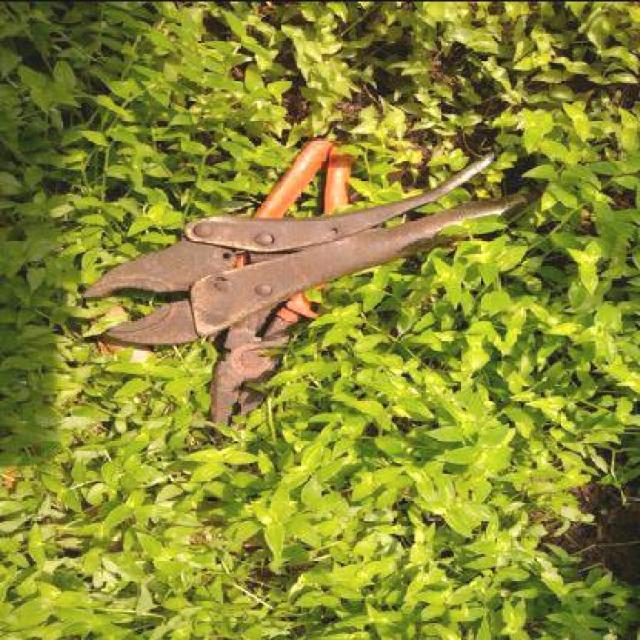pliers: (80, 149, 506, 348)
